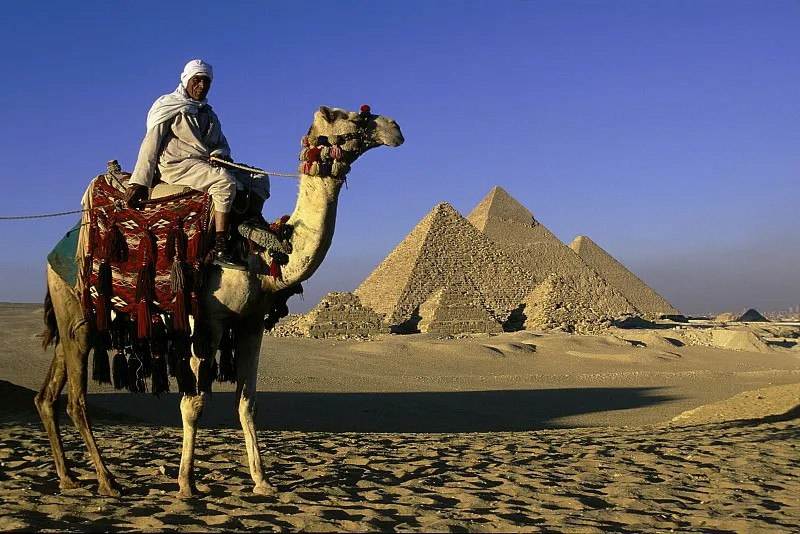Pyramid: (355, 201, 540, 332), (466, 187, 645, 322), (569, 235, 682, 315), (503, 274, 617, 332), (404, 287, 505, 336), (288, 293, 396, 338)
